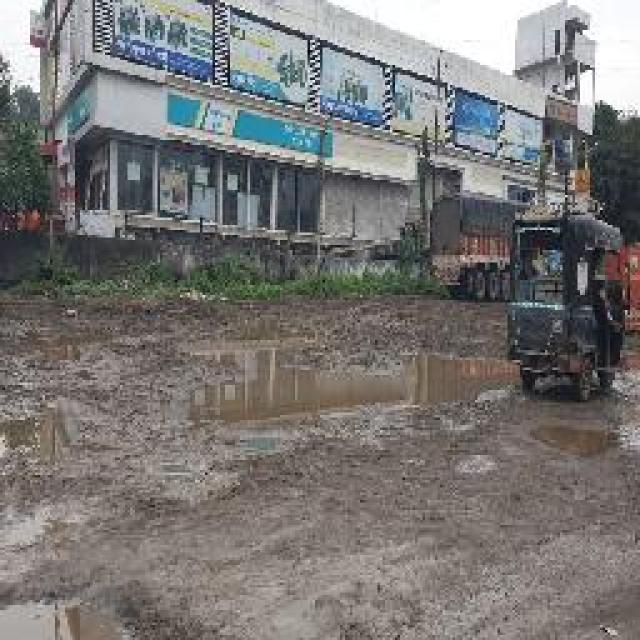stagnation: (196, 349, 526, 415)
